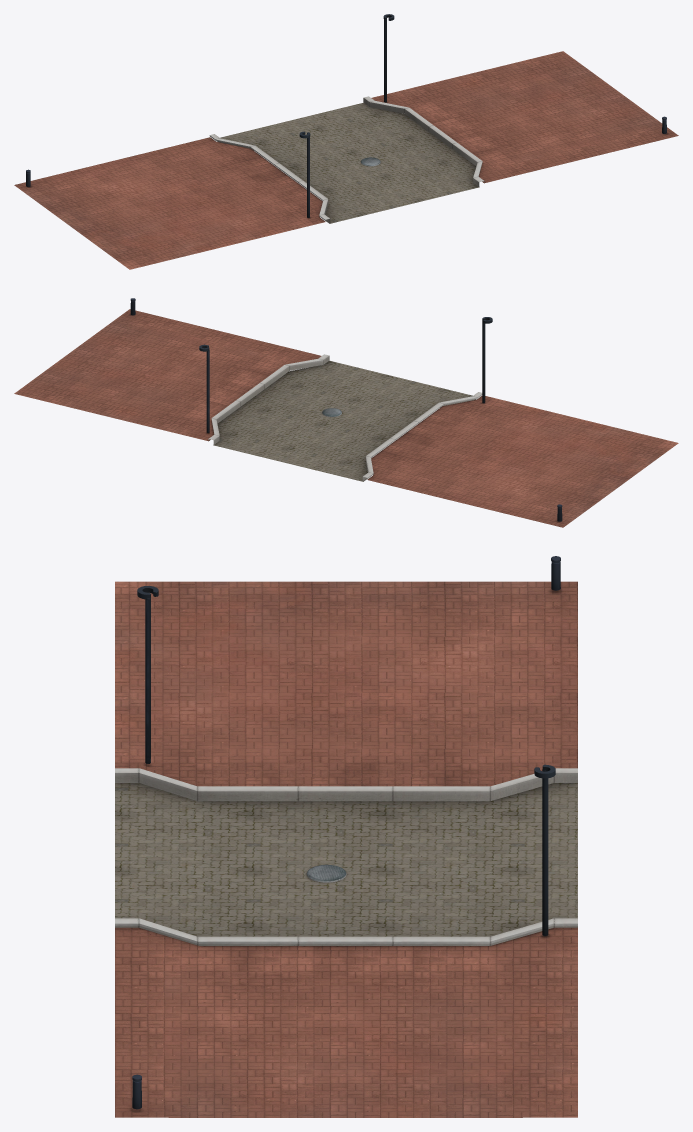
File: street_1.glb
3 renders of one model, top to bottom at view 1: azimuth 30°, elevation 25°; view 2: azimuth 150°, elevation 25°; view 3: azimuth 270°, elevation 25°, orthographic. The views are drawn at different scales.
Visible parts, largest first — view 1: street_1; view 2: street_1; view 3: street_1.
Part boxes in pixels (x1,y1,x2,y2): street_1: (14,14,678,269); street_1: (14,298,678,527); street_1: (115,556,577,1117).
Bounding box in the file's own units: 21.91 × 3.36 × 8.
1 material, 1 textured.
